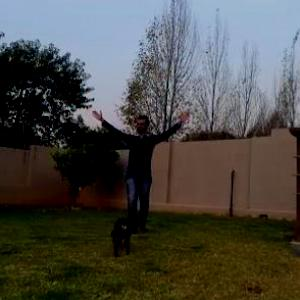takeoff: (84, 94, 205, 234)
